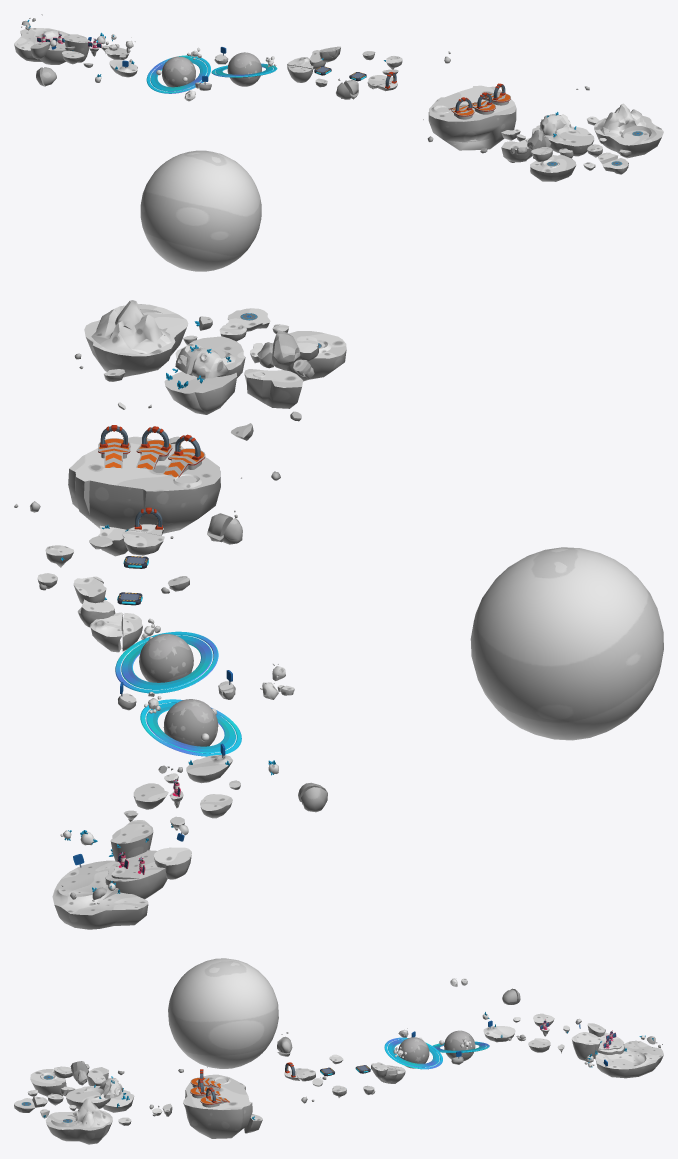
3 renders of one model, top to bottom at view 1: azimuth 30°, elevation 25°; view 2: azimuth 150°, elevation 25°; view 3: azimuth 270°, elevation 25°, orthographic. The views are drawn at different scales.
Visible parts, largest first — view 1: Level13Visuals, Sphere (8), SpinningPlatform (2).001, Sphere (7), Sphere (7).001, SpinningPlatform (2); view 2: Level13Visuals, Sphere (8), SpinningPlatform (2), Sphere (7), Sphere (7).001, SpinningPlatform (2).001; view 3: Level13Visuals, Sphere (8), SpinningPlatform (2), Sphere (7), Sphere (7).001.
Part boxes in pixels (<box>): Level13Visuals: <box>14,14,663,181</box>; Sphere (8): <box>140,150,261,271</box>; SpinningPlatform (2).001: <box>146,55,210,93</box>; Sphere (7): <box>227,52,261,86</box>; Sphere (7).001: <box>162,56,195,87</box>; SpinningPlatform (2): <box>211,63,277,77</box>; Level13Visuals: <box>14,300,346,929</box>; Sphere (8): <box>470,547,663,740</box>; SpinningPlatform (2): <box>115,631,218,693</box>; Sphere (7): <box>139,634,193,682</box>; Sphere (7).001: <box>163,699,218,746</box>; SpinningPlatform (2).001: <box>140,699,241,756</box>; Level13Visuals: <box>14,988,663,1144</box>; Sphere (8): <box>168,958,278,1068</box>; SpinningPlatform (2): <box>384,1037,442,1069</box>; Sphere (7): <box>398,1037,429,1068</box>; Sphere (7).001: <box>444,1030,475,1060</box>.
Bounding box in the file's own units: 112 × 32.96 × 162.
